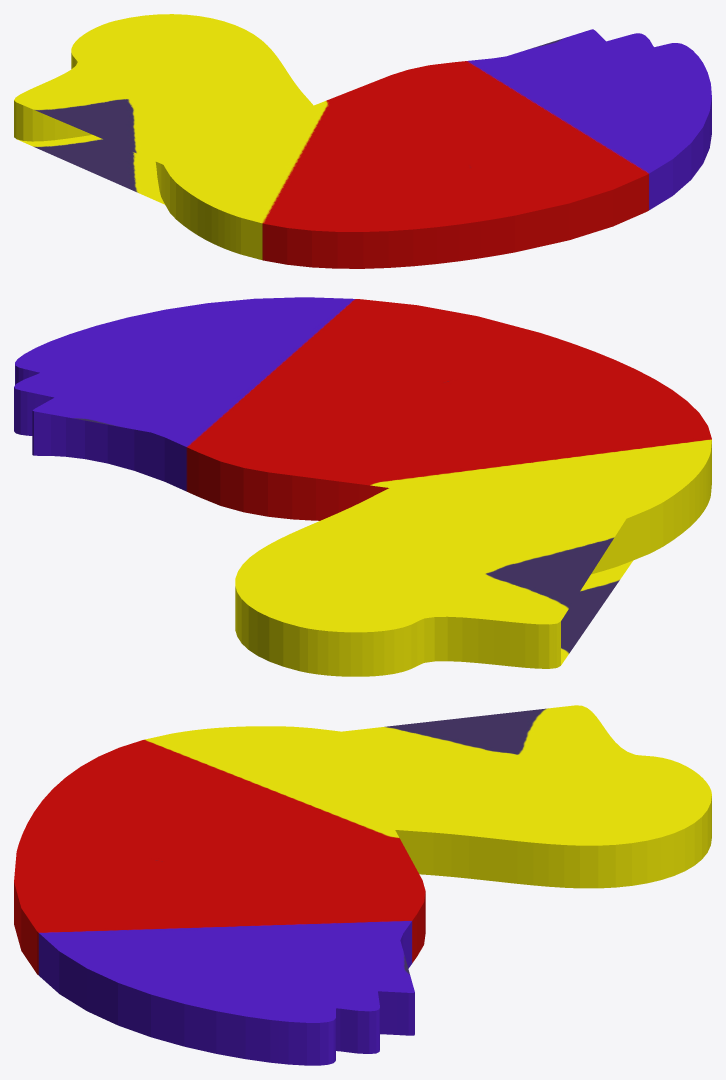
Rendered from Duck mold.fbx.
3 views of the same model, one above another, from view 1: azimuth 30°, elevation 25°; view 2: azimuth 150°, elevation 25°; view 3: azimuth 270°, elevation 25° (orthographic). The views are drawn at different scales.
Parts seen in each view (by area): view 1: Duck mold; view 2: Duck mold; view 3: Duck mold.
Boxes of the visible parts, x1,y1,x2,y2 form: Duck mold: (14, 14, 711, 268); Duck mold: (14, 297, 711, 676); Duck mold: (14, 705, 711, 1065).
Size of the model in its own units: 825 by 51.77 by 766.
1 material, 1 textured.
